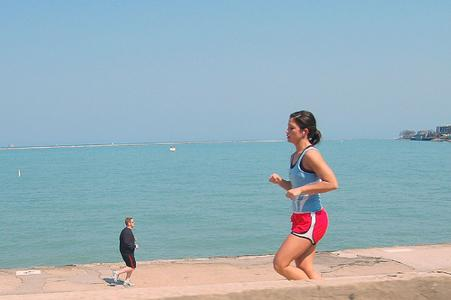person: (271, 111, 340, 281)
